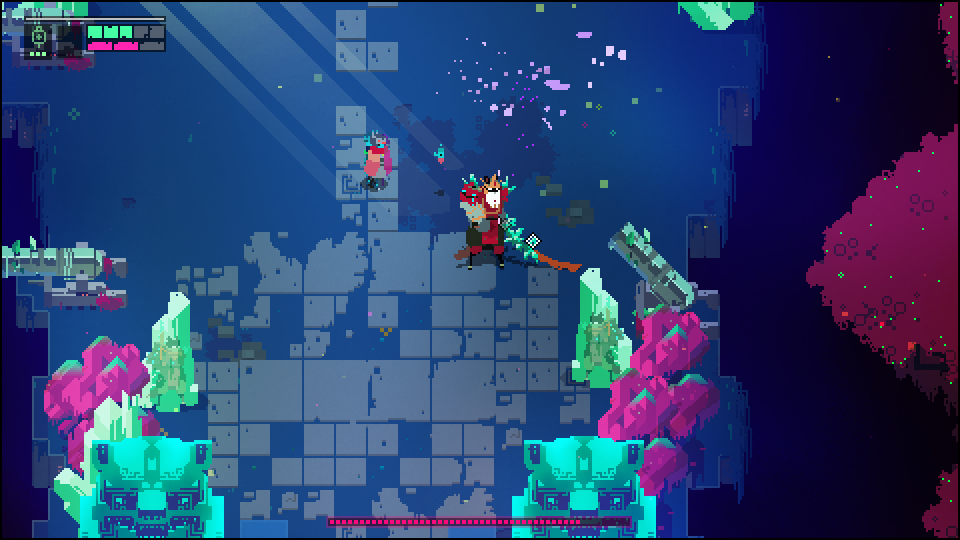hanged_man: (454, 169, 535, 268)
player: (362, 130, 390, 188)
